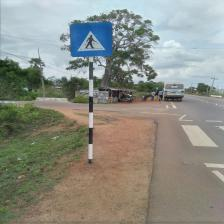blueboard: (68, 21, 114, 57)
crossing: (180, 124, 219, 148)
